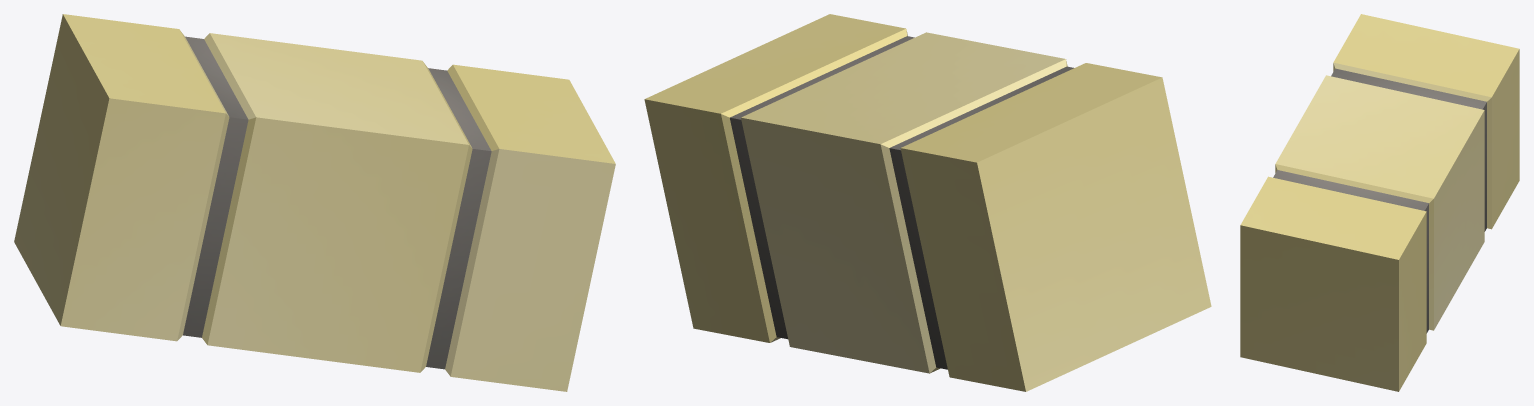
Rendered from heno.fbx.
The picture shows the model from 3 angles, left to right: view 1: azimuth 30°, elevation 25°; view 2: azimuth 150°, elevation 25°; view 3: azimuth 270°, elevation 25°; orthographic projection. The views are drawn at different scales.
Parts seen in each view (by area): view 1: Mesh; view 2: Mesh; view 3: Mesh.
Boxes of the visible parts, x1,y1,x2,y2 form: Mesh: [14, 14, 615, 391]; Mesh: [644, 14, 1211, 391]; Mesh: [1240, 14, 1519, 391].
Bounding box in the file's own units: 13.22 × 7.93 × 8.69.
